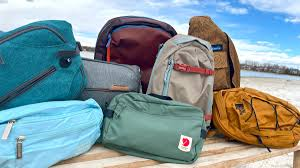bag: (110, 92, 207, 165)
